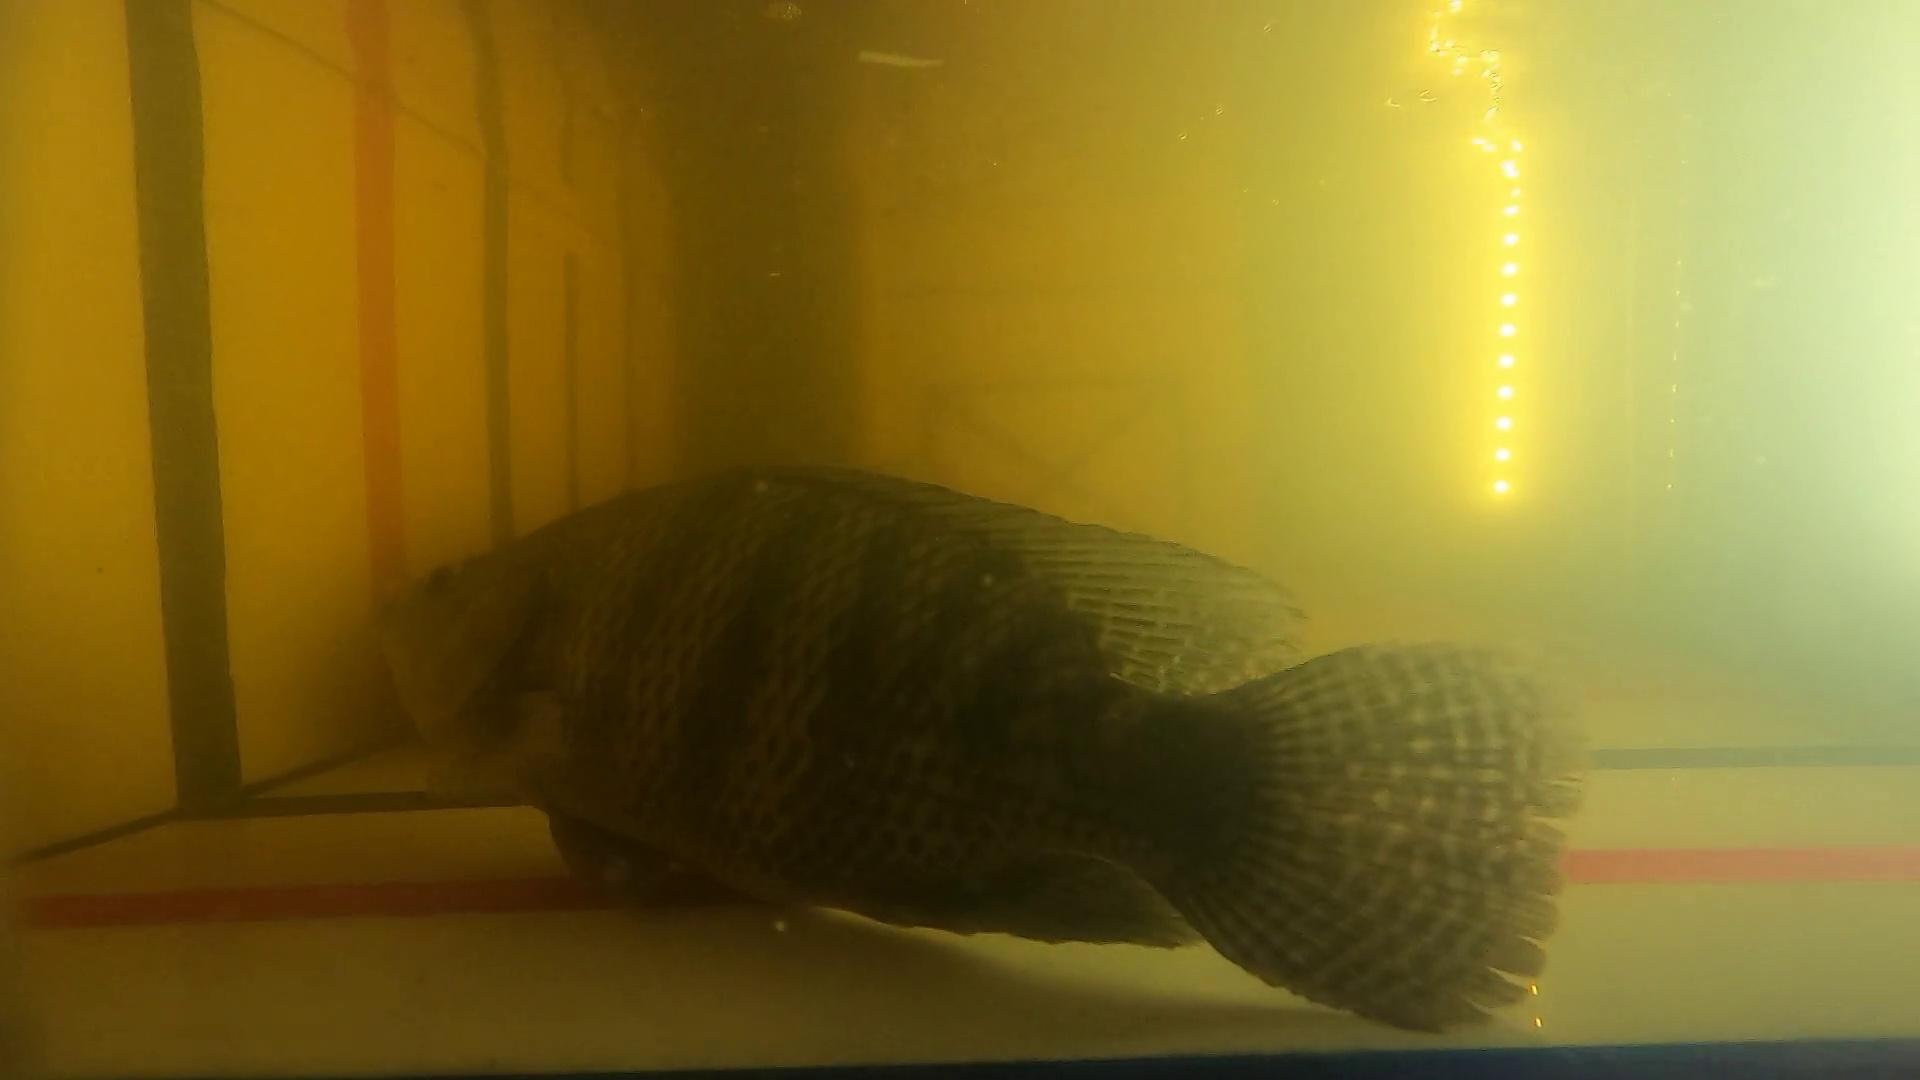Tilapia: (377, 468, 1592, 1040)
